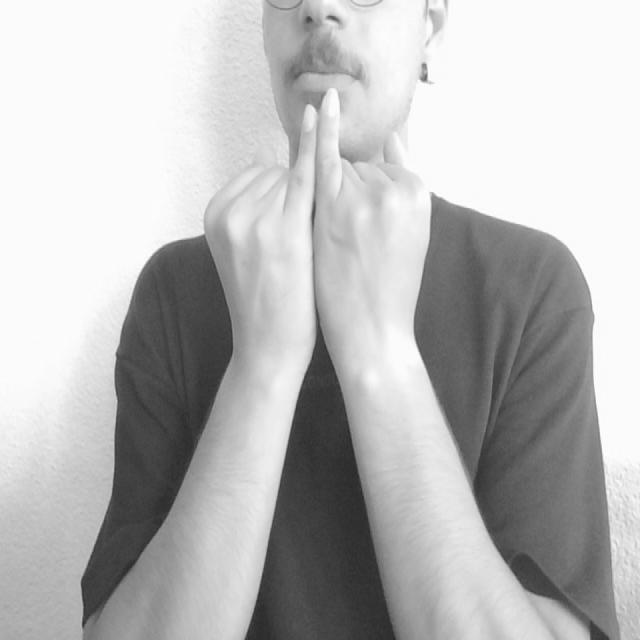Kardes: (201, 82, 439, 360)
